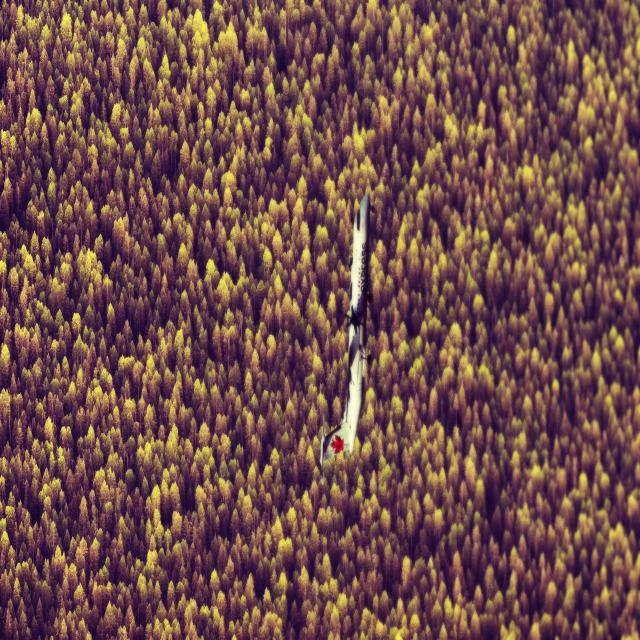airplane: (319, 192, 372, 476)
